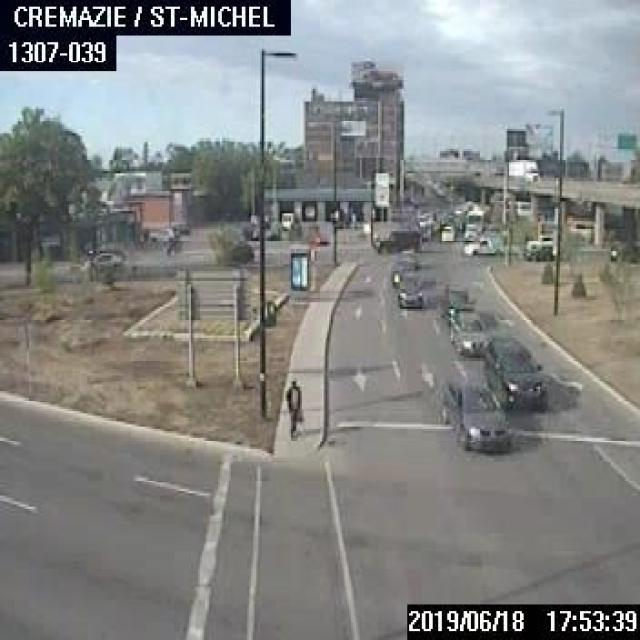pedestrian: (284, 376, 302, 436)
vehicle: (438, 377, 510, 449), (482, 334, 545, 412), (446, 302, 488, 356), (438, 282, 474, 324), (374, 228, 420, 254), (396, 272, 422, 309), (84, 247, 122, 269), (522, 238, 558, 260), (506, 157, 538, 181), (458, 236, 502, 253), (390, 256, 414, 284), (607, 245, 638, 262), (466, 208, 484, 232), (148, 226, 178, 240), (280, 210, 296, 228), (438, 223, 453, 240), (463, 222, 476, 239)
